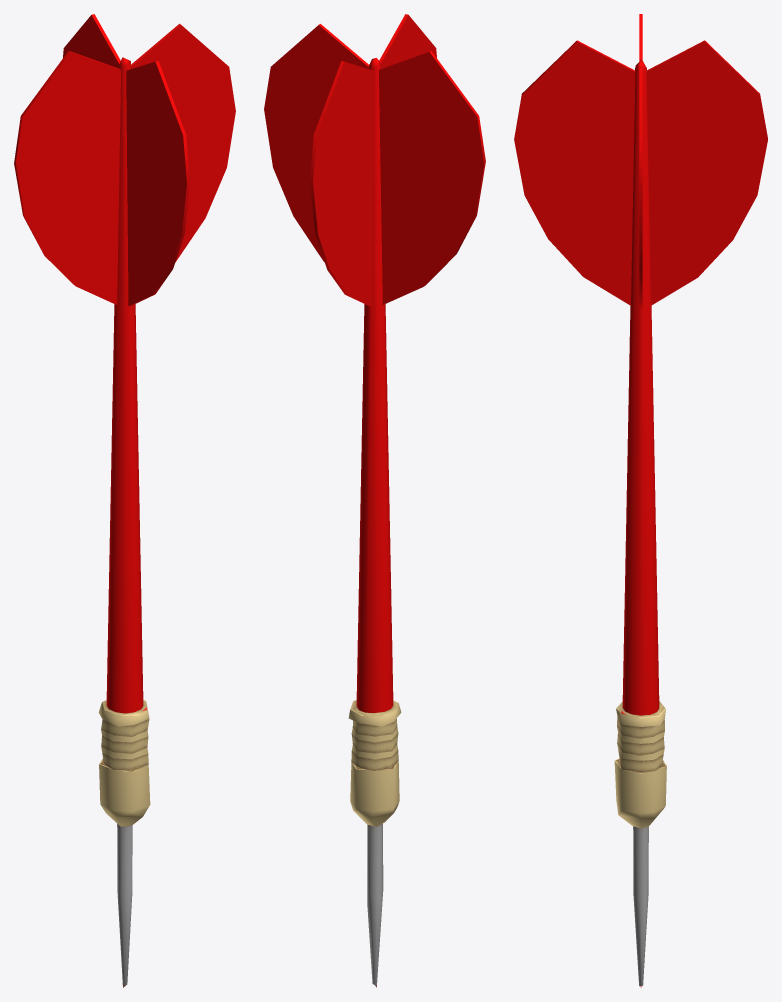
Rendered from dart_red.glb.
The picture shows the model from 3 angles, left to right: view 1: azimuth 30°, elevation 25°; view 2: azimuth 150°, elevation 25°; view 3: azimuth 270°, elevation 25°; orthographic projection.
Visible parts, largest first — view 1: dart_red; view 2: dart_red; view 3: dart_red.
Part boxes in pixels (bbox=[...]): dart_red: bbox=[14, 14, 235, 987]; dart_red: bbox=[264, 14, 485, 987]; dart_red: bbox=[514, 14, 767, 987].
Bounding box in the file's own units: 0.0343 × 0.1412 × 0.0343.
1 material, 1 textured.
